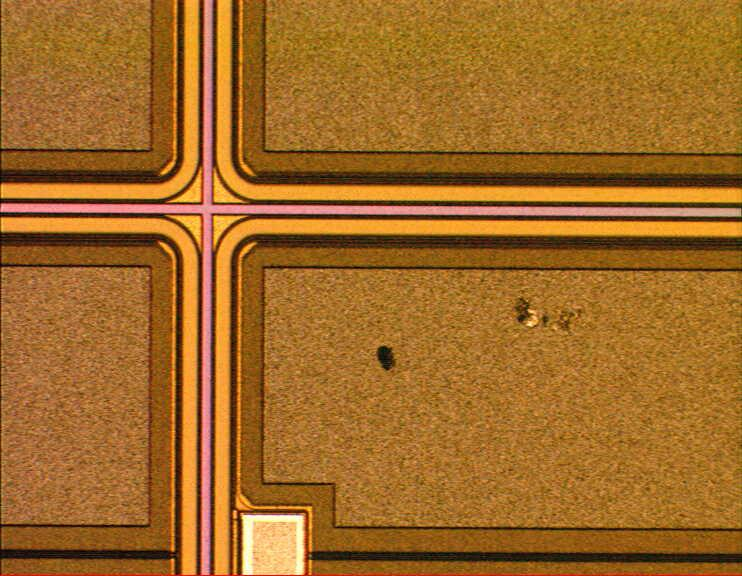SCRATCH: (370, 294, 594, 387)
